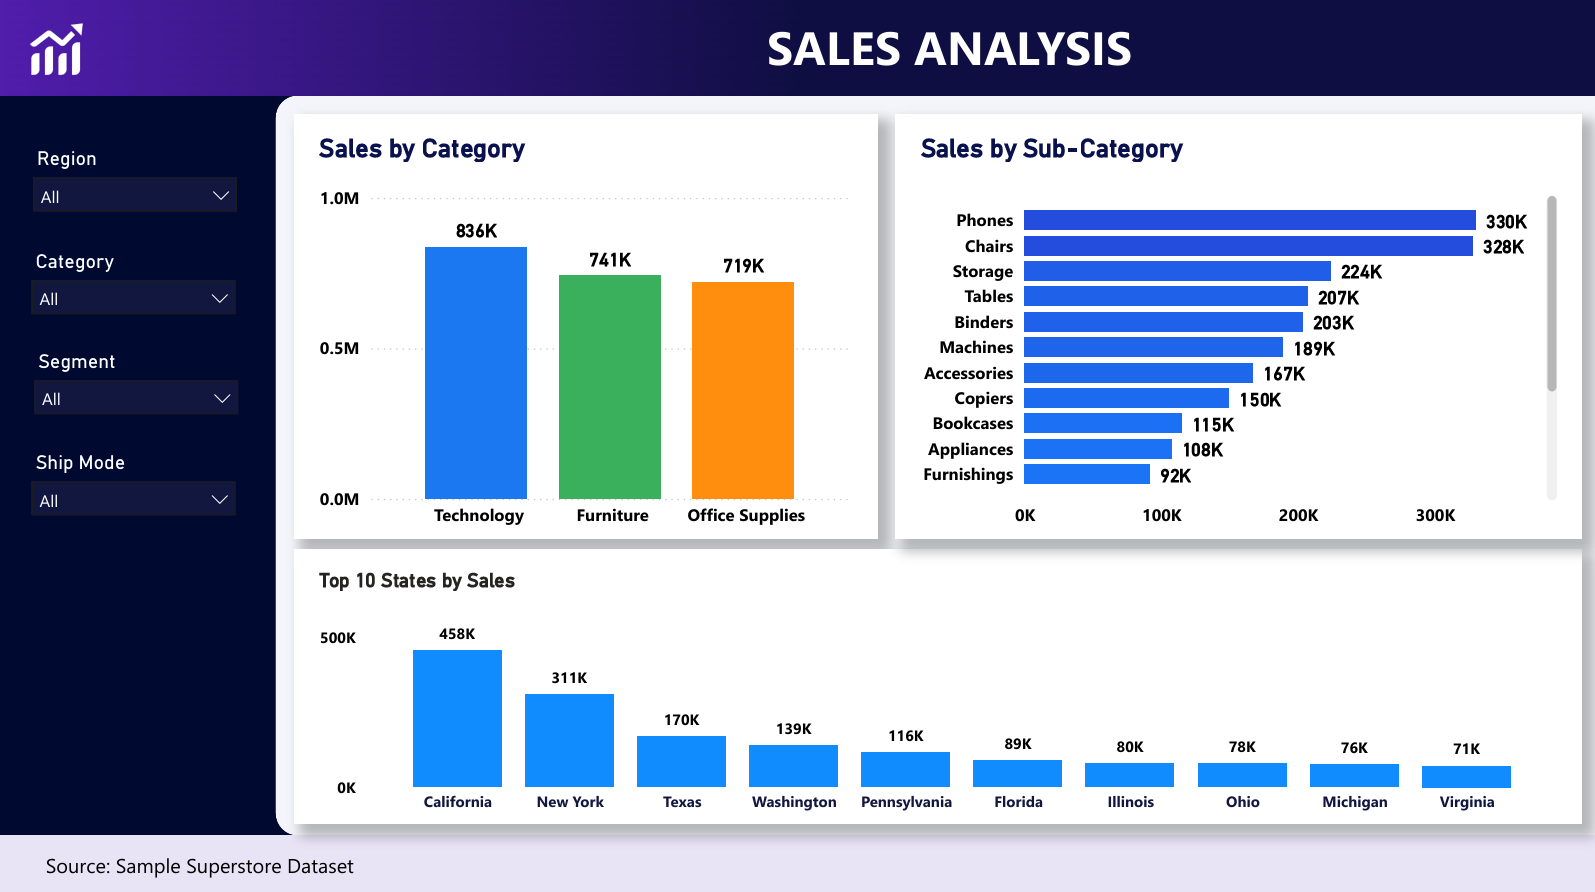

The dashboard page shown, as its layout file describes it:
{"tool":"powerbi","page":{"name":"Sales Analysis","canvas":[1280,720],"ordinal":1},"visuals":[{"type":"shape","box":[222.5,77.5,1057.5,592.5],"z":0},{"type":"image","box":[-0.3,0,1280,77.5],"z":1000},{"type":"textbox","box":[243.8,9,1036.2,63.8],"z":2000},{"type":"shape","box":[0,670,1280,50],"z":3000},{"type":"textbox","box":[33.8,670,530,50],"z":4000},{"type":"clusteredColumnChart","title":"Sales by Category","fields":{"Y":["Sum(Cleaned_Superstore.Sales)"],"Category":["Cleaned_Superstore.Category"]},"box":[237.5,92.5,467.5,340],"z":5000},{"type":"clusteredColumnChart","title":"Top 10 States by Sales","fields":{"Y":["Sum(Cleaned_Superstore.Sales)"],"Category":["Cleaned_Superstore.State"]},"box":[237.5,441.2,1030,220],"z":6000},{"type":"slicer","fields":{"Values":["Cleaned_Superstore.Region"]},"box":[19.3,114.4,182.6,81.4],"z":7000},{"type":"slicer","fields":{"Values":["Cleaned_Superstore.Category"]},"box":[18.1,195.8,182.6,81.4],"z":8000},{"type":"slicer","fields":{"Values":["Cleaned_Superstore.Segment"]},"box":[20.4,276,182.6,81.4],"z":9000},{"type":"slicer","fields":{"Values":["Cleaned_Superstore.Ship_Mode"]},"box":[18.1,357.4,182.6,81.4],"z":10000},{"type":"image","box":[0,16.2,93.8,51.2],"z":11000},{"type":"clusteredBarChart","title":"Sales by Sub-Category","fields":{"Y":["Sum(Cleaned_Superstore.Sales)"],"Category":["Cleaned_Superstore.Sub_Category"]},"box":[718.8,92.5,548.8,340],"z":12000}]}

Visuals, with their boxes in screenshot pixels (x1, y1, x2, y2), scaled from the page's 1280x720 canvas onto the 1595x892 screenshot:
shape: [left=277, top=96, right=1594, bottom=830]
image: [left=0, top=0, right=1594, bottom=96]
textbox: [left=304, top=11, right=1594, bottom=90]
shape: [left=0, top=830, right=1594, bottom=891]
textbox: [left=42, top=830, right=703, bottom=891]
"Sales by Category" clusteredColumnChart: [left=296, top=115, right=878, bottom=536]
"Top 10 States by Sales" clusteredColumnChart: [left=296, top=547, right=1579, bottom=819]
slicer - Cleaned_Superstore.Region: [left=24, top=142, right=252, bottom=243]
slicer - Cleaned_Superstore.Category: [left=23, top=243, right=250, bottom=343]
slicer - Cleaned_Superstore.Segment: [left=25, top=342, right=253, bottom=443]
slicer - Cleaned_Superstore.Ship_Mode: [left=23, top=443, right=250, bottom=544]
image: [left=0, top=20, right=117, bottom=84]
"Sales by Sub-Category" clusteredBarChart: [left=896, top=115, right=1580, bottom=536]
